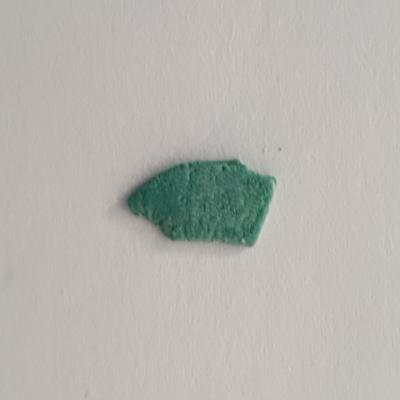plastic: (122, 157, 279, 255)
